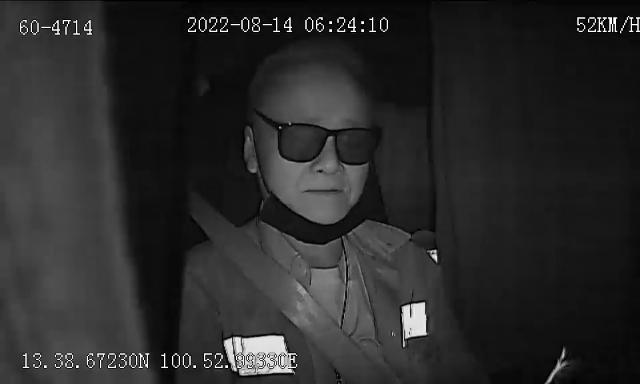Seatbelt: (187, 190, 393, 384)
